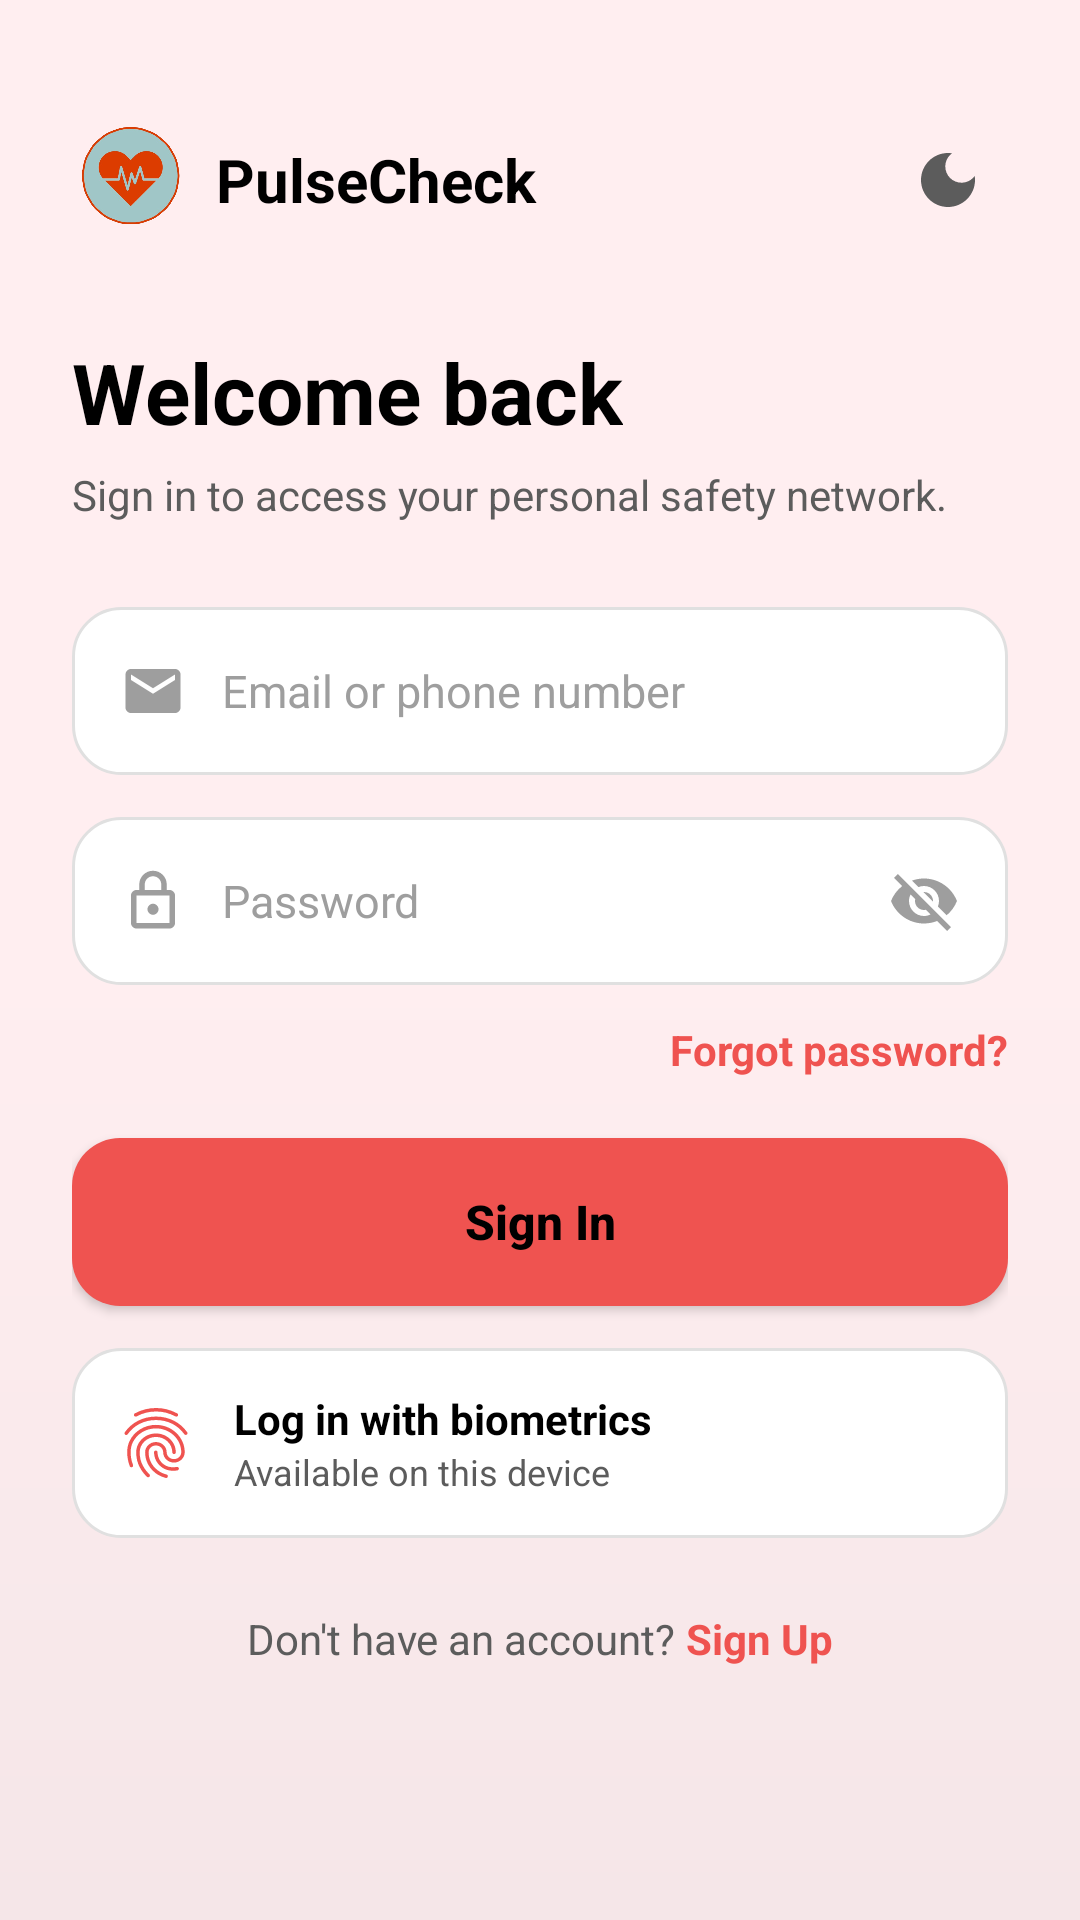

Named icons in this screenshot (1080 x 1920) and their bounding boxes, (x1, y1, x2, y2):
fingerprint: (124, 1408, 188, 1478)
lock: (131, 871, 175, 929)
Toggle light or dark mode: (921, 153, 975, 207)
